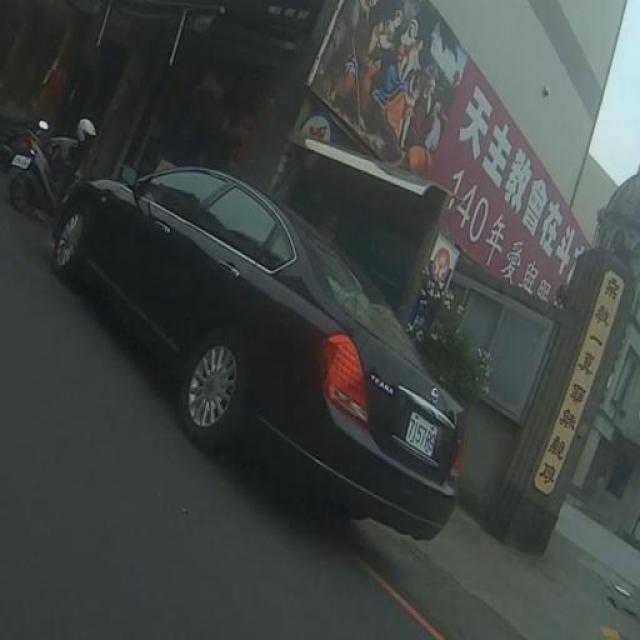illegalparking: (52, 166, 462, 539)
